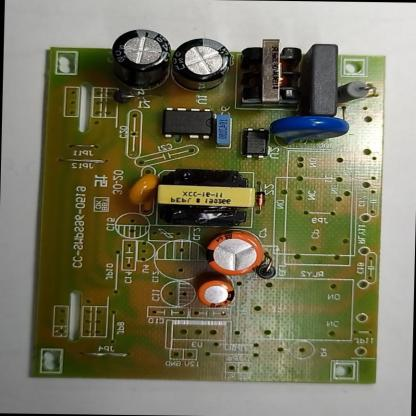Cap1: (193, 227, 276, 279)
Cap2: (188, 275, 244, 313)
Cap3: (169, 34, 238, 96)
Cap4: (106, 23, 178, 97)
MOSFET: (156, 106, 222, 142)
Mov: (262, 113, 355, 149)
Resistor: (336, 75, 379, 108)
Transformer: (146, 166, 262, 230), (235, 36, 310, 112)
